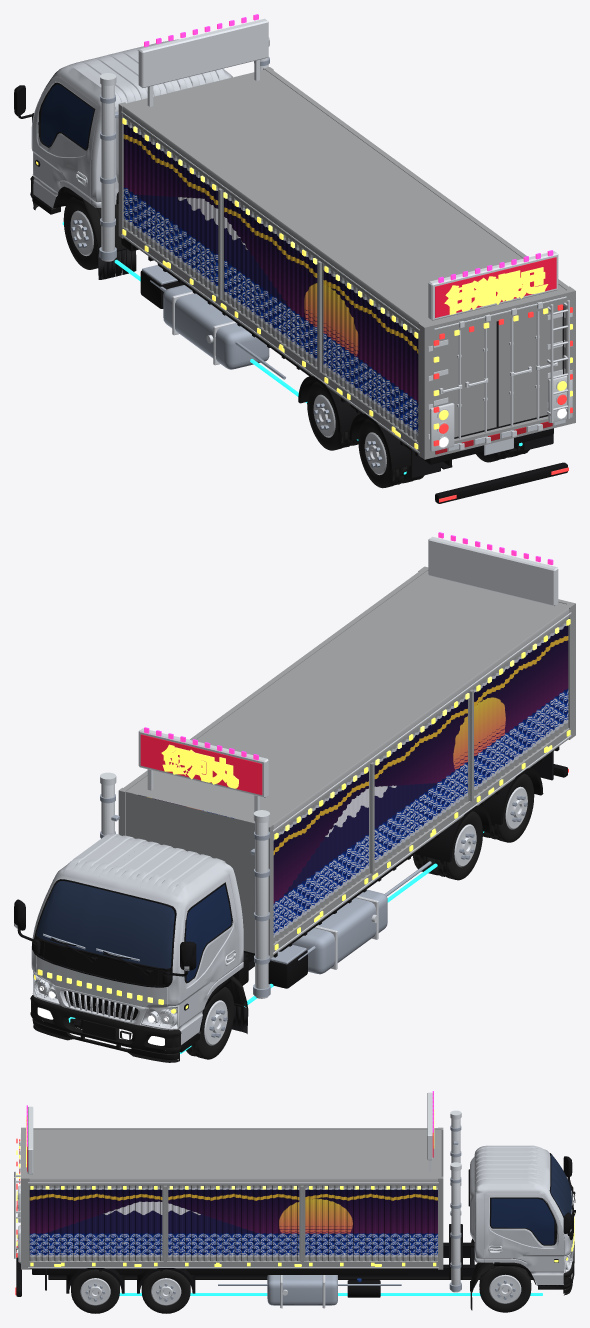
The model's file is dekotora_truck_base_jac.glb.
3 views of the same model, one above another, from view 1: azimuth 30°, elevation 25°; view 2: azimuth 150°, elevation 25°; view 3: azimuth 270°, elevation 25° (orthographic). The views are drawn at different scales.
Parts seen in each view (by area): view 1: truck_paint_white_box, truck_mural, truck_box_metal, truck_chrome, truck_paint_white_panel, truck_plastic_black, truck_steel, truck_lamp_amber, truck_glass, truck_rubber, wheel_r_L_1.5_1.06, wheel_r_L_3.0_1.06 (+6 smaller); view 2: truck_paint_white_box, truck_mural, truck_paint_white_panel, truck_chrome, truck_box_metal, truck_plastic_black, truck_glass_wind, truck_steel, truck_plastic_trim, truck_lamp_amber, truck_andon_panel, truck_glass (+5 smaller); view 3: truck_mural, truck_paint_white_box, truck_box_metal, truck_paint_white_panel, truck_plastic_black, truck_chrome, truck_steel, truck_glass, wheel_f_R, wheel_r_R_3.0_1.06, wheel_r_R_1.5_1.06, truck_lamp_amber (+3 smaller).
Boxes of the visible parts, box(x1,y1,x2,y2) form: truck_paint_white_box: box(123, 69, 566, 441); truck_mural: box(123, 122, 418, 435); truck_box_metal: box(118, 67, 575, 459); truck_chrome: box(32, 18, 572, 453); truck_paint_white_panel: box(31, 39, 232, 208); truck_plastic_black: box(14, 71, 567, 503); truck_steel: box(99, 57, 285, 379); truck_lamp_amber: box(36, 118, 572, 449); truck_glass: box(41, 84, 93, 148); truck_rubber: box(98, 249, 563, 478); wheel_r_L_1.5_1.06: box(358, 419, 408, 488); wheel_r_L_3.0_1.06: box(307, 381, 354, 450); truck_paint_white_box: box(126, 570, 568, 953); truck_mural: box(135, 623, 568, 937); truck_paint_white_panel: box(31, 833, 243, 1044); truck_chrome: box(15, 536, 571, 1030); truck_box_metal: box(118, 566, 575, 958); truck_plastic_black: box(14, 746, 567, 1052); truck_glass_wind: box(36, 881, 174, 968); truck_steel: box(43, 794, 431, 1007); truck_plastic_trim: box(30, 975, 247, 1062); truck_lamp_amber: box(34, 619, 570, 1013); truck_andon_panel: box(140, 734, 262, 794); truck_glass: box(184, 885, 231, 981); truck_mural: box(29, 1187, 437, 1257); truck_paint_white_box: box(25, 1130, 441, 1261); truck_box_metal: box(21, 1127, 443, 1269); truck_paint_white_panel: box(470, 1145, 573, 1284); truck_plastic_black: box(16, 1153, 575, 1297); truck_chrome: box(14, 1092, 573, 1308); truck_steel: box(218, 1125, 572, 1305); truck_glass: box(491, 1198, 554, 1244); wheel_f_R: box(479, 1263, 531, 1312); wheel_r_R_3.0_1.06: box(141, 1269, 190, 1313); wheel_r_R_1.5_1.06: box(71, 1269, 119, 1313); truck_lamp_amber: box(16, 1109, 574, 1266).
Size of the model in its own units: 3.05 by 4.22 by 11.93.
Materials: 24 (8 with a texture image).
